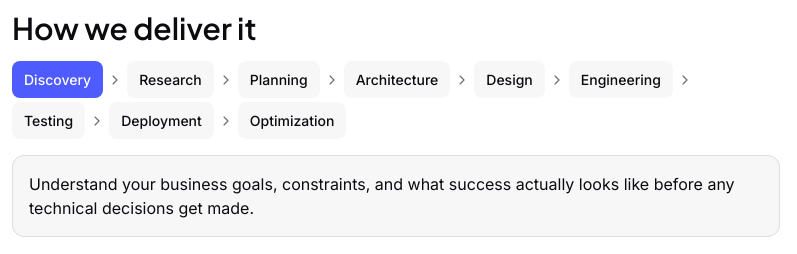
Test case: DeliveryFramework › shows another stage's description on click and tracks the selection with the solution slug
Step 1. Click the button "Research" → click(170, 80), box [127,61,214,98]
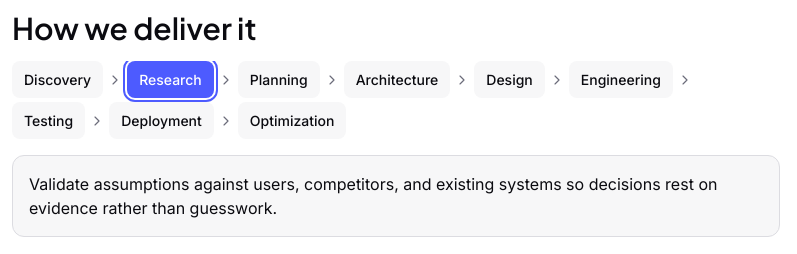
Now the text "Validate assumptions against users, competitors, and existing systems so decisions rest on evidence rather than guesswor" is shown, box [29,174,717,218]
